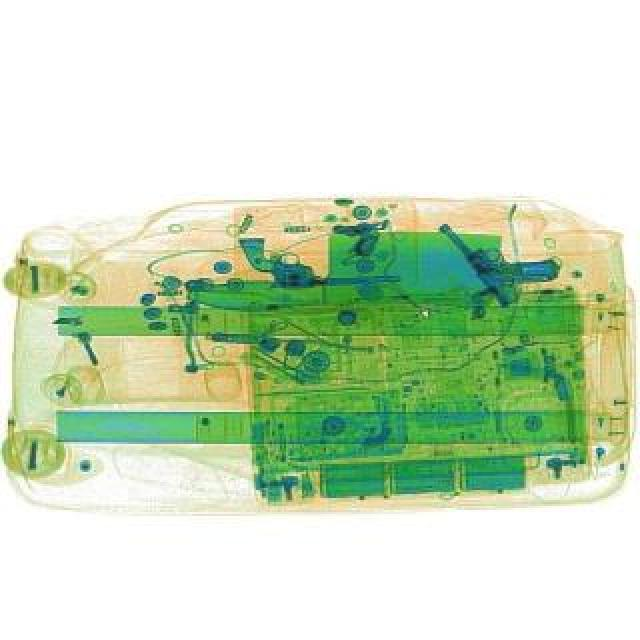gun: (432, 190, 570, 318), (238, 234, 408, 296)
knife: (186, 224, 512, 316)
